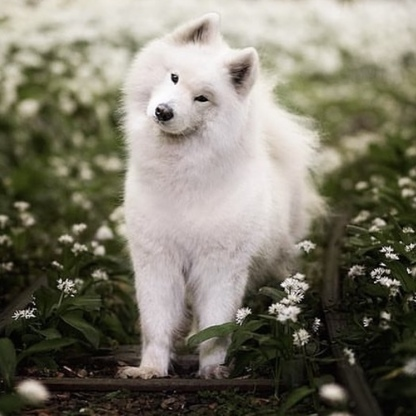samoyed: (108, 8, 325, 381)
